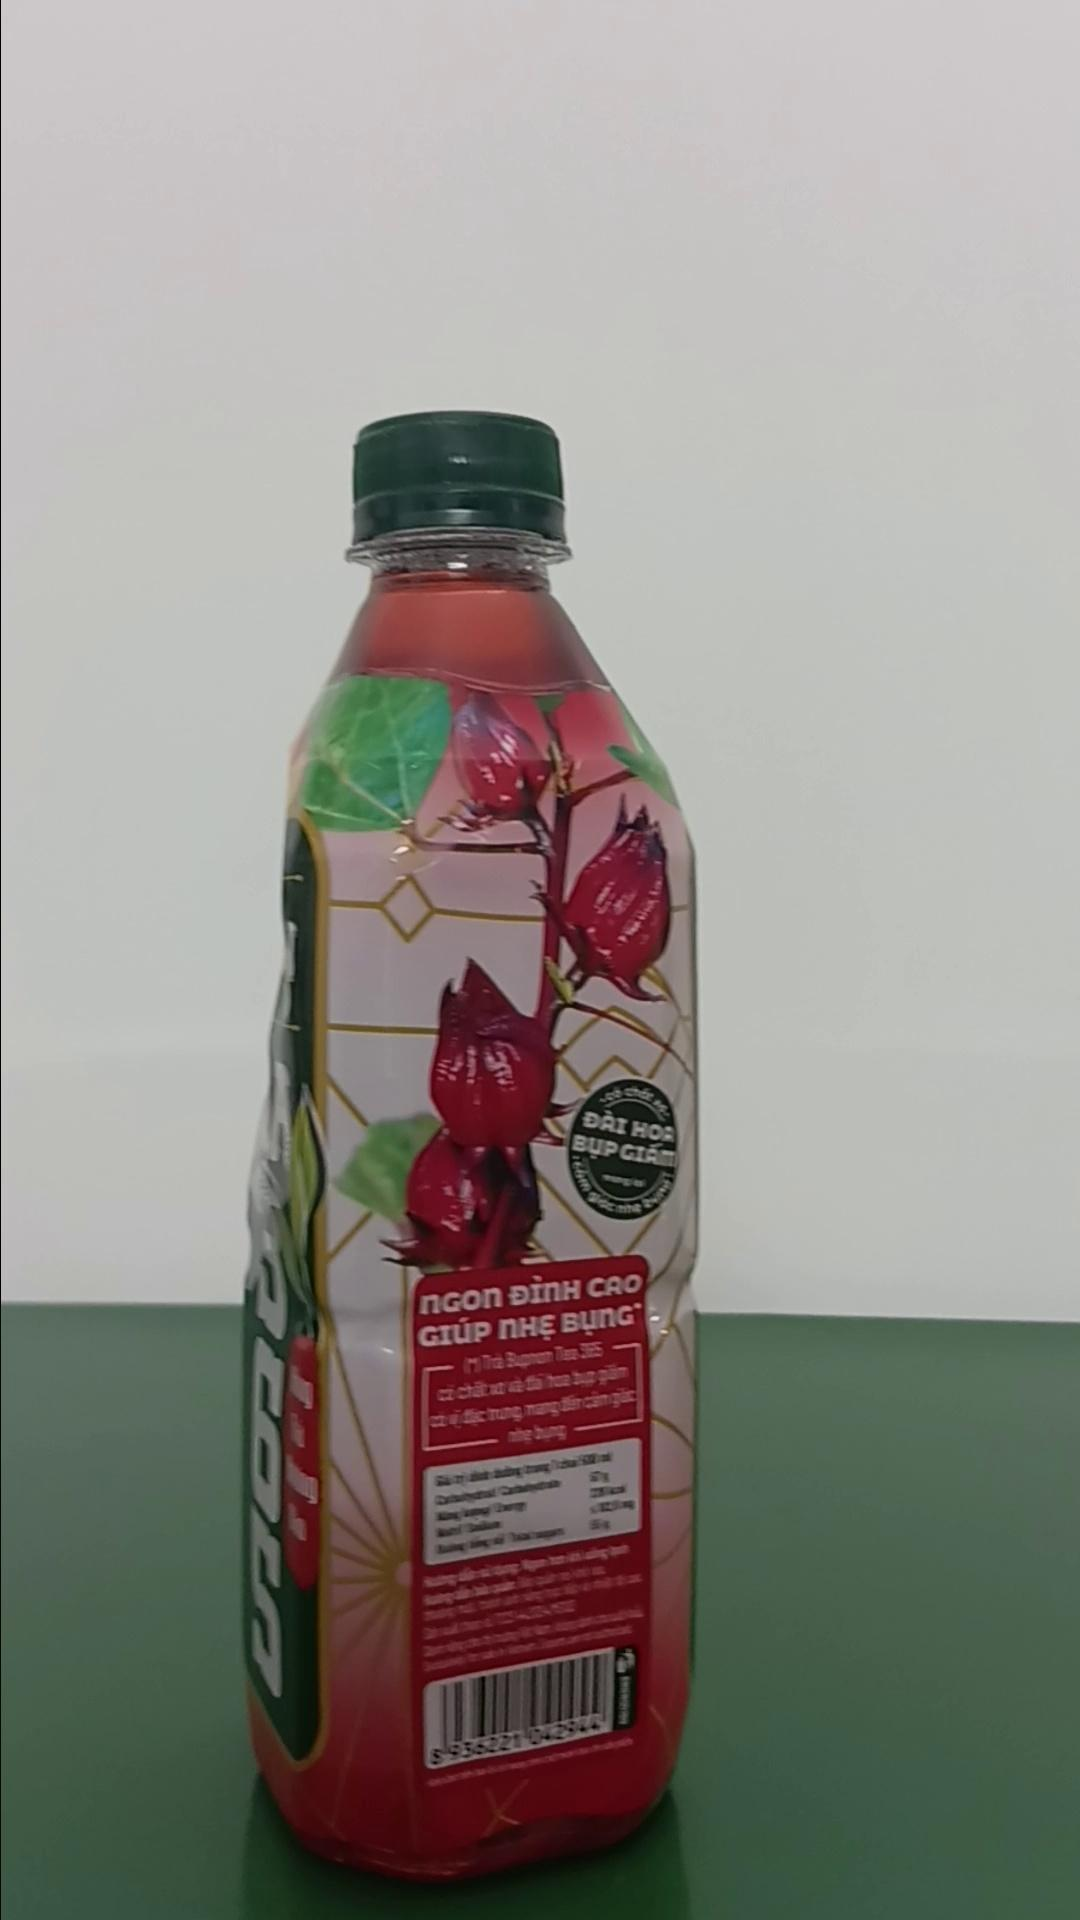loi meo sp: (236, 407, 705, 1882)
